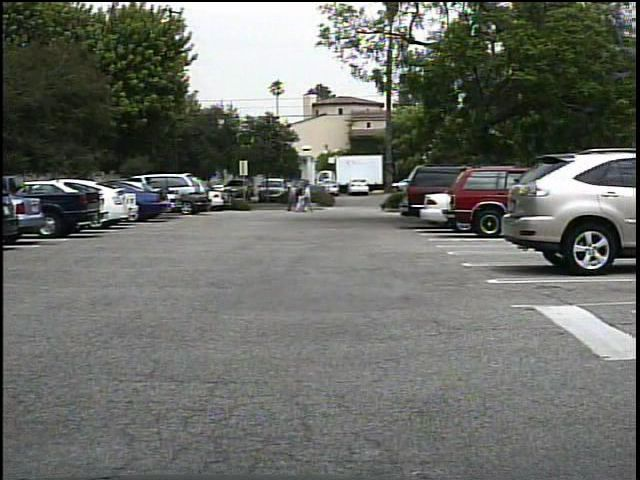person: (299, 183, 318, 214), (284, 184, 300, 214), (302, 185, 303, 215)
